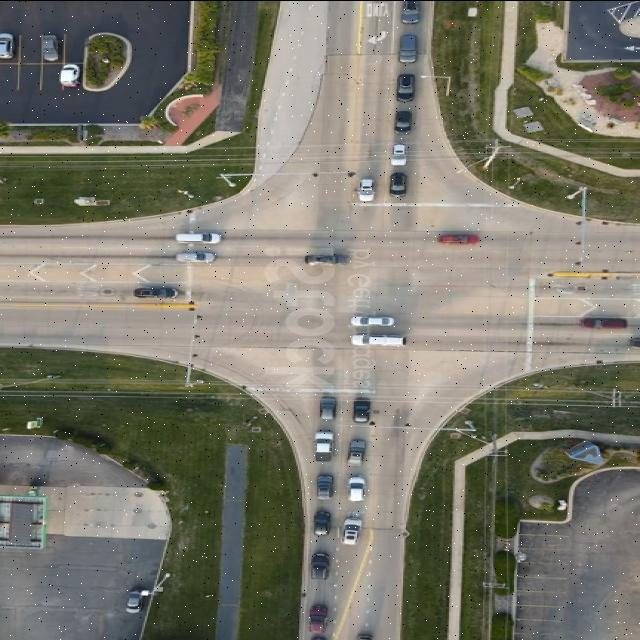car: (352, 335, 405, 347), (400, 33, 420, 62), (400, 68, 420, 96), (581, 316, 627, 328), (176, 232, 220, 244), (126, 588, 148, 612), (344, 518, 364, 544), (312, 552, 332, 578), (396, 74, 416, 100), (439, 234, 482, 246), (353, 397, 373, 422), (437, 238, 478, 250), (404, 0, 424, 24), (316, 474, 334, 499), (135, 287, 180, 297), (60, 64, 80, 86), (352, 316, 396, 326), (306, 254, 350, 264), (349, 477, 367, 501), (349, 440, 367, 464), (314, 511, 332, 535), (397, 112, 415, 136), (320, 396, 338, 419), (176, 252, 216, 262), (358, 178, 376, 200), (0, 33, 15, 58), (391, 172, 408, 194), (391, 142, 407, 164)
pickup-truck: (40, 33, 60, 61)
